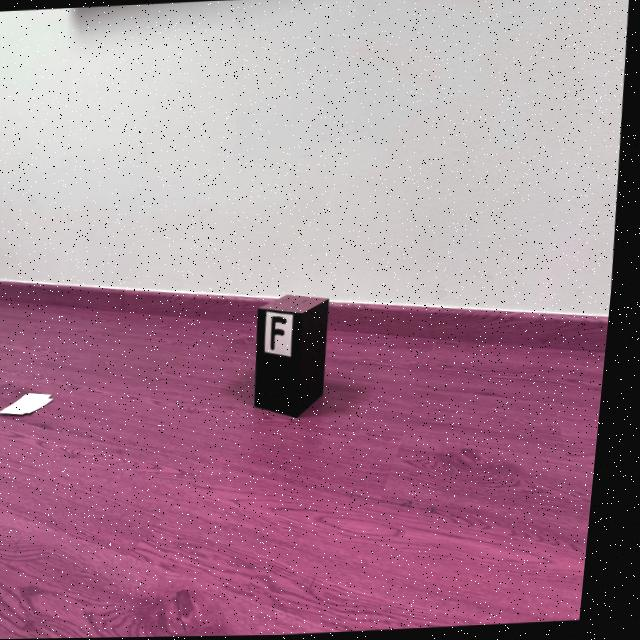F: (277, 315, 293, 350)
